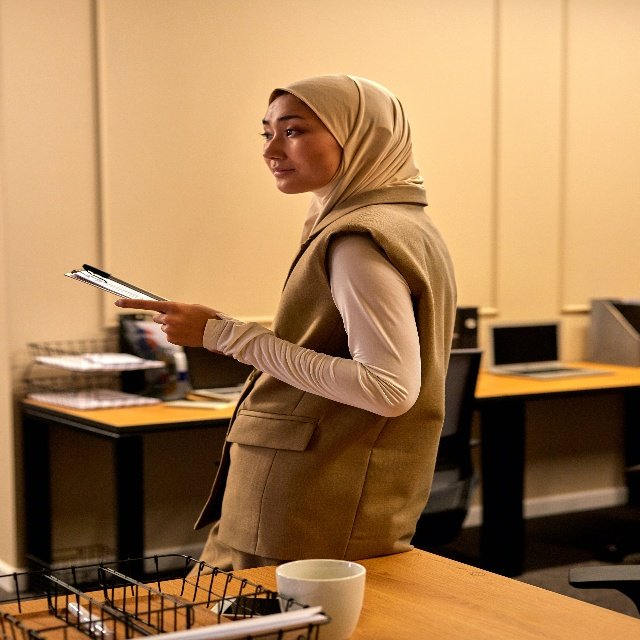Sin_guantes: (113, 288, 222, 351)
